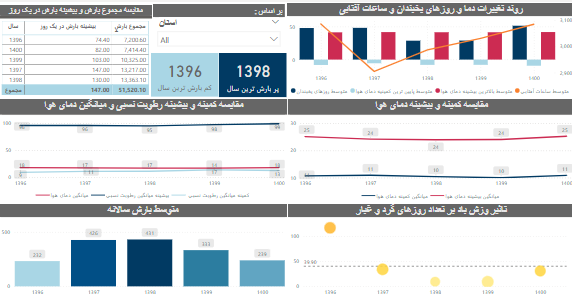

This screenshot's page, from the dashboard's own definition file:
{"tool":"powerbi","page":{"name":"وضعیت آب و هوا","canvas":[1280,720],"ordinal":0},"visuals":[{"type":"tableEx","title":"مقایسه مجموع بارش و بیشینه بارش در یک روز","fields":{"Values":["weathers.سال","Max(weathers.بیشینه بارندگی در یک روز (میلی متر))","Sum(weathers.بارندگی سالانه (میلی متر))"]},"box":[0,64.4,340,208.9],"z":0},{"type":"lineChart","title":"مقایسه کمینه و بیشینه دمای هوا","fields":{"Category":["weathers.سال"],"Y":["Avg(weathers.میانگین کمینه دمای هوا (درجه سلسیوس))","Avg(weathers.میانگین بیشینه دمای هوا (درجه سلسیوس))"]},"box":[642,273,637,232],"z":1000},{"type":"columnChart","title":"متوسط بارش سالانه","fields":{"Category":["weathers.سال"],"Y":["weathers.متوسط بارش سالانه"]},"box":[0,506,640,213],"z":2000},{"type":"lineChart","title":"مقایسه کمینه و بیشینه رطوبت نسبی و میانگین دمای هوا","fields":{"Category":["weathers.سال"],"Y":["Avg(weathers.میانگین دمای هوا (درجه سلسیوس))","Max(weathers.بیشینه میانگین رطوبت نسبی (درصد))","Min(weathers.کمینه میانگین رطوبت نسبی (درصد))"]},"box":[2,273,637.8,231.1],"z":3000},{"type":"lineClusteredColumnComboChart","title":"روند تغییرات دما و روزهای یخبندان و ساعات آفتابی","fields":{"Category":["weathers.سال"],"Y":["Avg(weathers.تعداد روزهای یخبندان)","Avg(weathers.پایین ترین کمینه دمای هوا (درجه سلسیوس))","Avg(weathers.بالاترین بیشینه دمای هوا (درجه سلسیوس))"],"Y2":["Avg(weathers.ساعات آفتابی)"]},"box":[640,59,640,213],"z":4000},{"type":"scatterChart","title":"تاثیر وزش باد بر تعداد روزهای گرد و غبار","fields":{"X":["weathers.سال"],"Y":["Avg(weathers.تعداد روزهای همراه با گرد و غبار)"],"Size":["Avg(weathers.بیشینه سرعت وزش باد (متر بر ثانیه))"]},"box":[643,507,637,213],"z":5000},{"type":"card","fields":{"Values":["weathers.پر بارش ترین سال"]},"box":[488,171,150,97.8],"z":6000},{"type":"card","fields":{"Values":["weathers.کم بارش ترین سال"]},"box":[337,171,150,97],"z":7000},{"type":"slicer","title":": بر اساس","fields":{"Values":["weathers.استان"]},"box":[342,63,293,105],"z":8000}]}

Visuals, with their boxes on the page's 1280x720 design canvas (x1, y1, x2, y2). These are canvas units, not pixel positions in the 572x296 screenshot, which may show the page scaled, cropped or inside an application window:
"مقایسه مجموع بارش و بیشینه بارش در یک روز" tableEx: 0, 64, 340, 273
"مقایسه کمینه و بیشینه دمای هوا" lineChart: 642, 273, 1279, 505
"متوسط بارش سالانه" columnChart: 0, 506, 640, 719
"مقایسه کمینه و بیشینه رطوبت نسبی و میانگین دمای هوا" lineChart: 2, 273, 640, 504
"روند تغییرات دما و روزهای یخبندان و ساعات آفتابی" lineClusteredColumnComboChart: 640, 59, 1280, 272
"تاثیر وزش باد بر تعداد روزهای گرد و غبار" scatterChart: 643, 507, 1280, 720
card - weathers.پر بارش ترین سال: 488, 171, 638, 269
card - weathers.کم بارش ترین سال: 337, 171, 487, 268
": بر اساس" slicer: 342, 63, 635, 168
